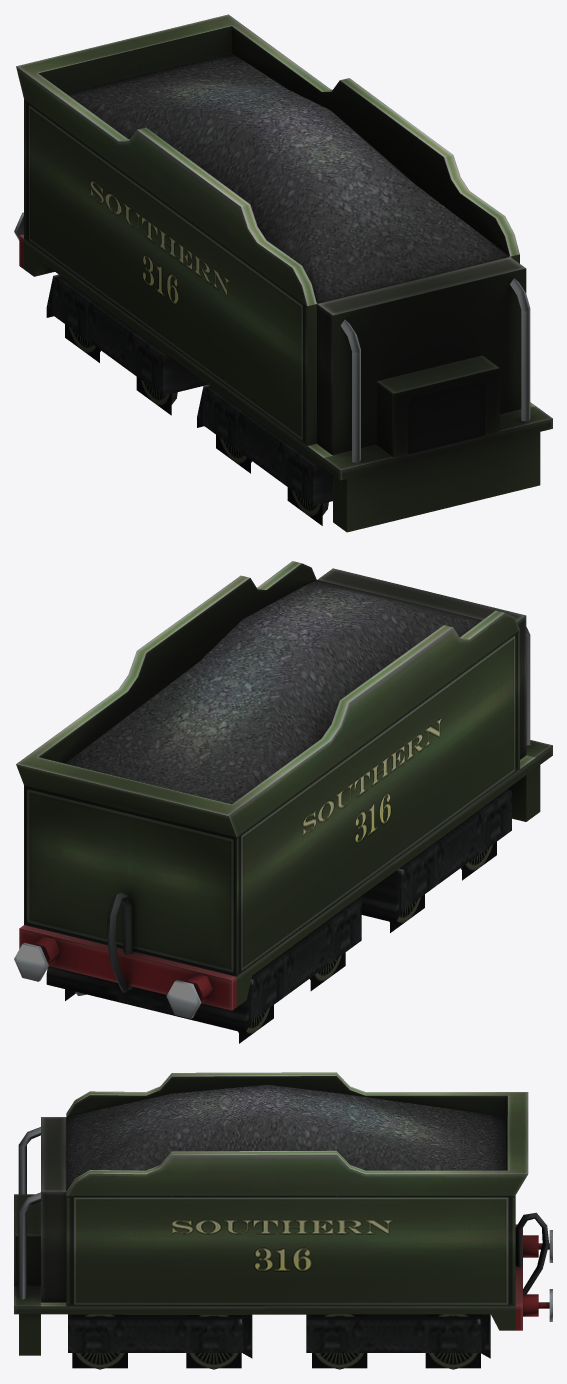
The model's file is Train06_Coal.fbx.
3 views of the same model, one above another, from view 1: azimuth 30°, elevation 25°; view 2: azimuth 150°, elevation 25°; view 3: azimuth 270°, elevation 25° (orthographic). The views are drawn at different scales.
Parts seen in each view (by area): view 1: Empty_Mesh; view 2: Empty_Mesh; view 3: Empty_Mesh.
Part boxes in pixels (x1,y1,x2,y2): Empty_Mesh: (14, 14, 552, 532); Empty_Mesh: (14, 561, 552, 1043); Empty_Mesh: (14, 1072, 552, 1369).
Size of the model in its own units: 1.64 by 2.26 by 4.55.
